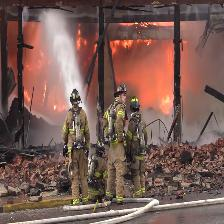fire: (0, 19, 89, 113), (124, 39, 174, 110)
smoke: (195, 37, 224, 146)
